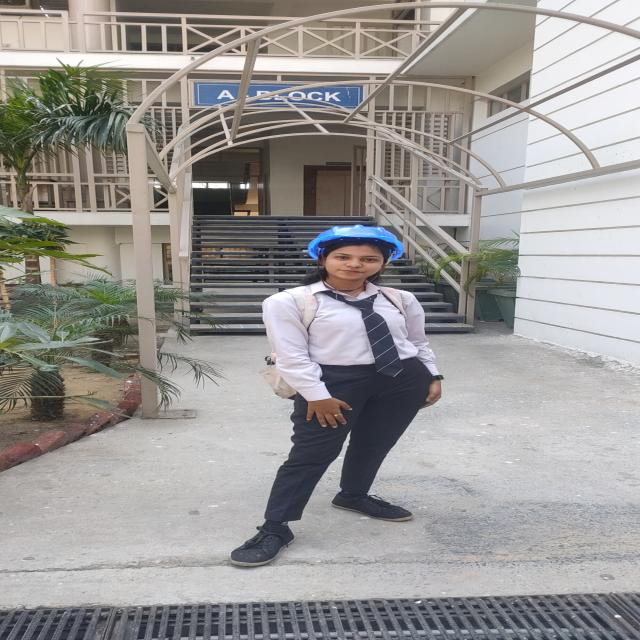safe: (264, 225, 434, 523)
